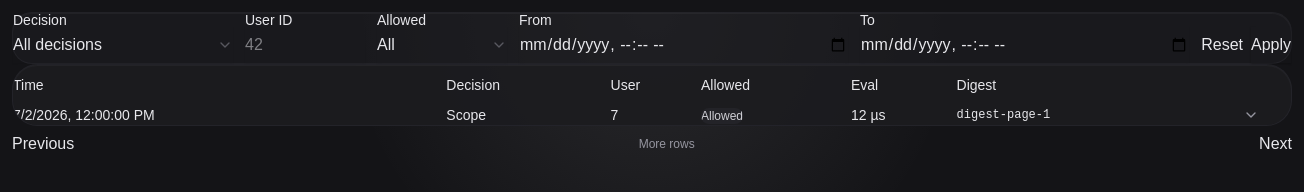
Test: PolicyDecisionLogTable › fetches the next cursor page
Expected: the text "digest-page-1" is shown, [957,105,1243,125]
Click the button "Next": click(1276, 144) [1259,126,1292,162]
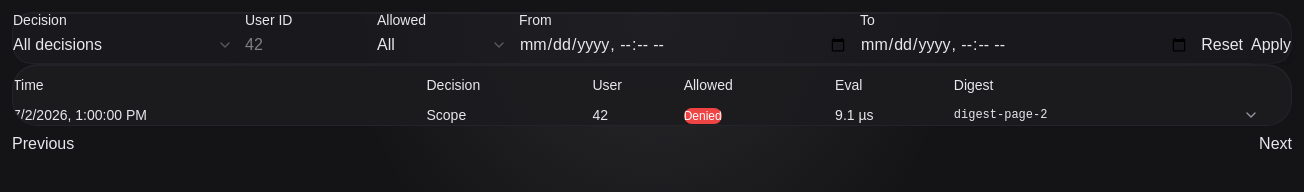
Expected: the text "digest-page-2" is shown, [954,105,1243,125]
